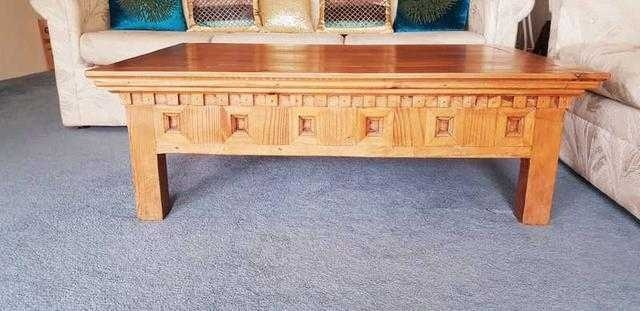obstacle: (87, 43, 606, 224)
